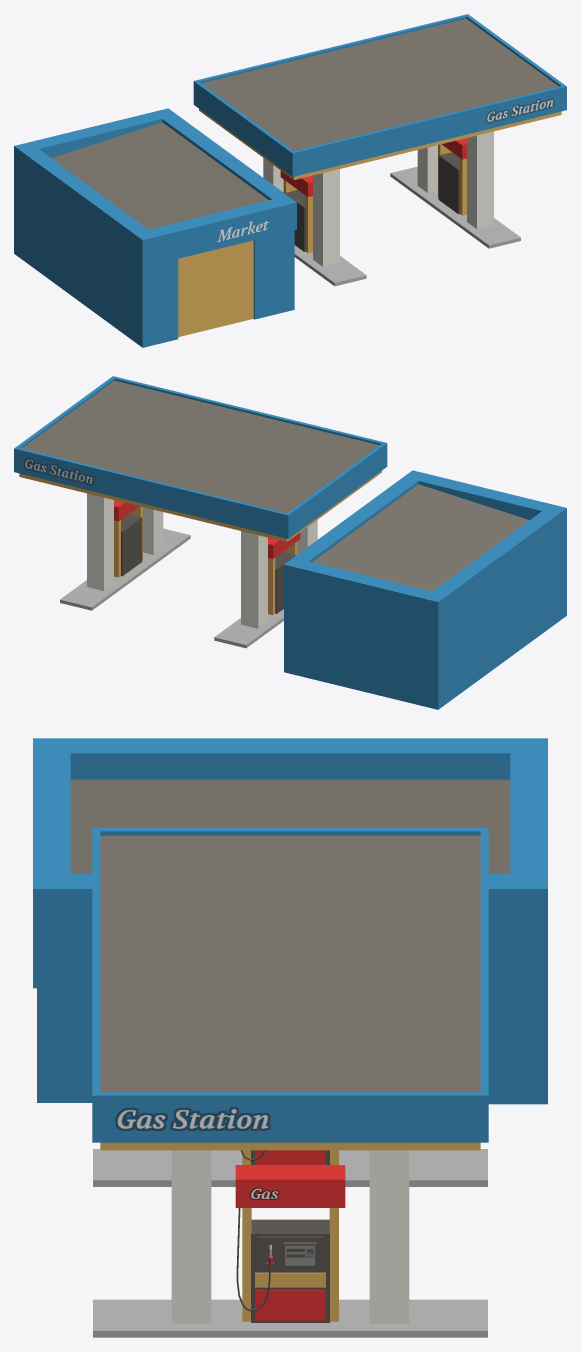
File: building_1_3_3_1.glb
The picture shows the model from 3 angles, top to bottom: view 1: azimuth 30°, elevation 25°; view 2: azimuth 150°, elevation 25°; view 3: azimuth 270°, elevation 25°; orthographic projection. The views are drawn at different scales.
Parts seen in each view (by area): view 1: Building_Gas Station.001_0.006; view 2: Building_Gas Station.001_0.006; view 3: Building_Gas Station.001_0.006.
Boxes of the visible parts, box(x1,y1,x2,y2) form: Building_Gas Station.001_0.006: box(14, 14, 566, 347); Building_Gas Station.001_0.006: box(14, 376, 566, 709); Building_Gas Station.001_0.006: box(33, 738, 547, 1337).
Bounding box in the file's own units: 25.6 × 7.99 × 13.
1 material, 1 textured.
